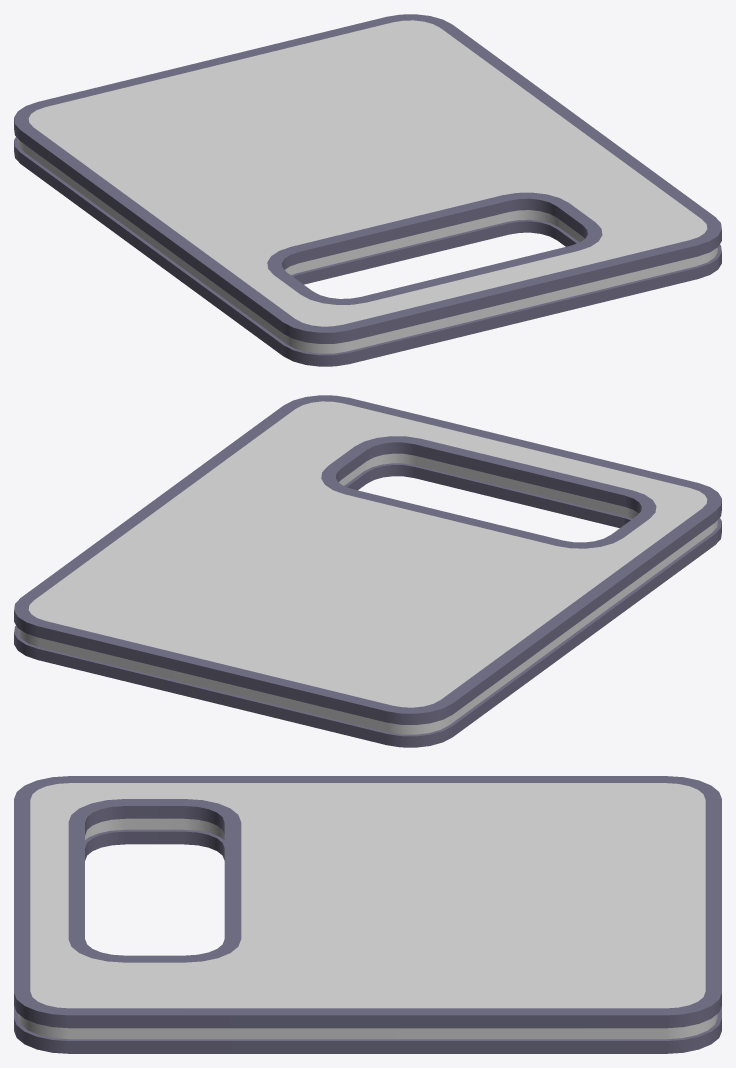
Rendered from env_undergroundstation_concreteplatform01.fbx.
The picture shows the model from 3 angles, top to bottom: view 1: azimuth 30°, elevation 25°; view 2: azimuth 150°, elevation 25°; view 3: azimuth 270°, elevation 25°; orthographic projection. The views are drawn at different scales.
Visible parts, largest first — view 1: env_undergroundstation_concreteplatform01; view 2: env_undergroundstation_concreteplatform01; view 3: env_undergroundstation_concreteplatform01.
Part boxes in pixels (left/top/right/bottom): env_undergroundstation_concreteplatform01: left=14, top=14, right=721, bottom=366; env_undergroundstation_concreteplatform01: left=14, top=395, right=721, bottom=747; env_undergroundstation_concreteplatform01: left=14, top=776, right=721, bottom=1053.
Size of the model in its own units: 160 by 12 by 200.
